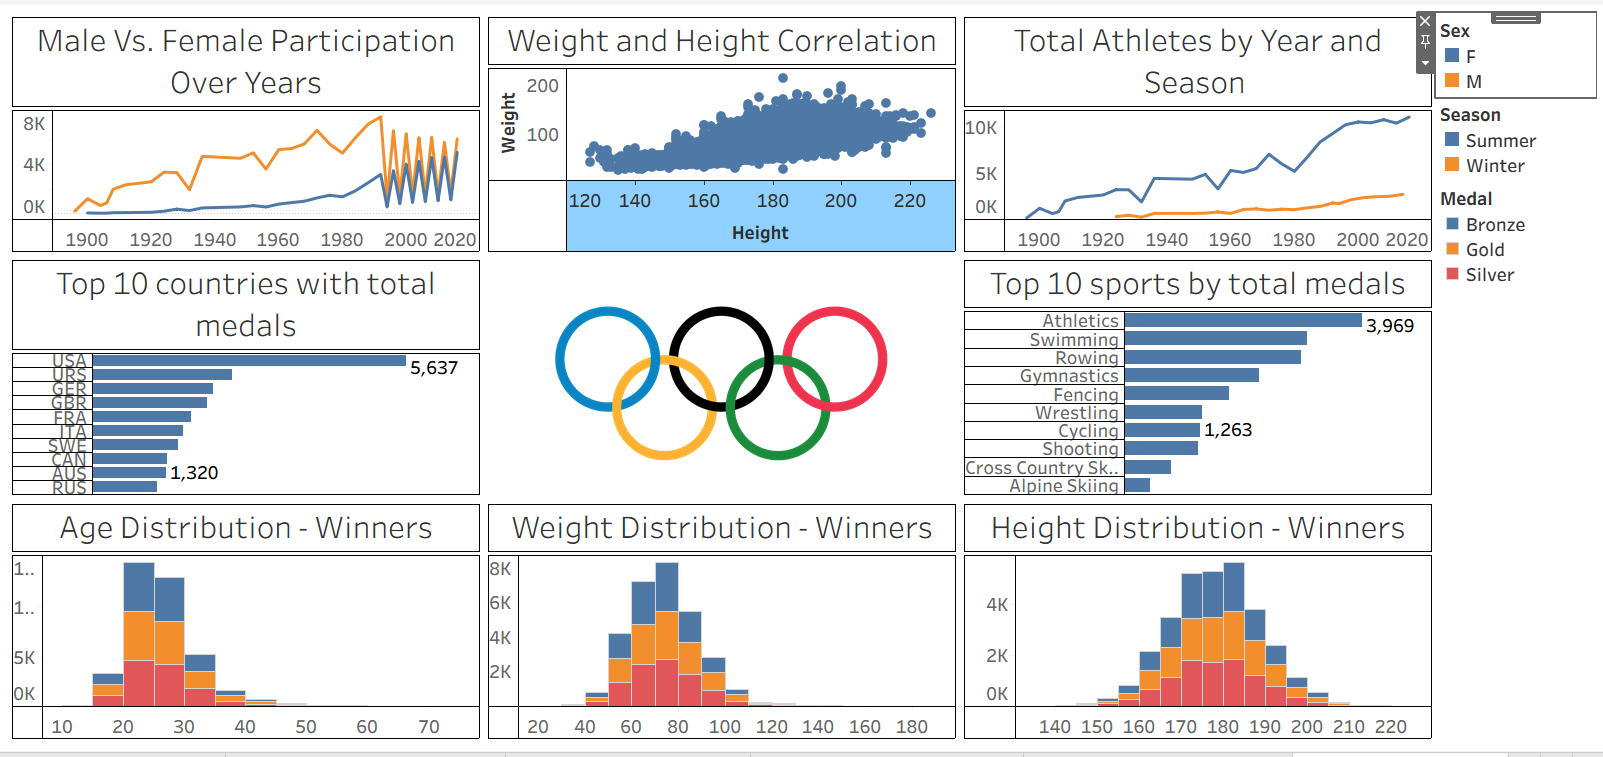

The dashboard page shown, as its layout file describes it:
{"tool":"tableau","page":{"name":"Dashboard 1","canvas":[1000,1000],"units":"permille","ordinal":0},"visuals":[{"type":"worksheet","title":"Male Vs. Female Participation Over Years","mark":"Automatic","rows":["ID"],"cols":["Year"],"box":[5,10.7,296.8,326.2]},{"type":"worksheet","title":"Weight and Height Correlation","mark":"Automatic","rows":["Weight"],"cols":["Height"],"box":[301.7,10.7,296.8,326.2]},{"type":"worksheet","title":"Total Athletes by Year and Season ","mark":"Automatic","rows":["ID"],"cols":["Year"],"box":[598.5,10.7,296.8,326.2]},{"type":"legend","title":"Male Vs. Female Participation Over Years","param":"[federated.0dr0gs71fu81rc1g9exuy1wo04yz].[none:Sex:nk]","box":[895.3,10.7,99.8,112.6]},{"type":"legend","title":"Total Athletes by Year and Season ","param":"[federated.0dr0gs71fu81rc1g9exuy1wo04yz].[none:Season:nk]","box":[895.3,123.3,99.8,112.6]},{"type":"legend","title":"Age Distribution - Winners","param":"[federated.0dr0gs71fu81rc1g9exuy1wo04yz].[none:Medal:nk]","box":[895.3,235.9,99.8,146.1]},{"type":"worksheet","title":"Top 10 countries with total medals","mark":"Automatic","rows":["NOC"],"cols":["Medal"],"box":[5,336.9,296.8,326.2]},{"type":"image","param":"C:/Users/KIIT/Downloads/Olympics-logo.png","box":[301.7,336.9,296.8,326.2]},{"type":"worksheet","title":"Top 10 sports by total medals","mark":"Automatic","rows":["Sport"],"cols":["Medal"],"box":[598.5,336.9,296.8,326.2]},{"type":"worksheet","title":"Age Distribution - Winners","mark":"Automatic","rows":["Age"],"cols":["Age (bin)"],"box":[5,663.1,296.8,326.2]},{"type":"worksheet","title":"Weight Distribution - Winners","mark":"Automatic","rows":["Weight"],"cols":["Weight (bin)"],"box":[301.7,663.1,296.8,326.2]},{"type":"worksheet","title":"Height Distribution - Winners","mark":"Automatic","rows":["Height"],"cols":["Height (bin)"],"box":[598.5,663.1,296.8,326.2]}]}

Visuals, with their boxes on the dashboard's canvas, which has no fixed pixel size, in thousandths of its width and height (x1, y1, x2, y2). These are canvas units, not pixel positions in the 1603x757 screenshot, which may show the page scaled, cropped or inside an application window:
"Male Vs. Female Participation Over Years" worksheet: detection(5, 11, 302, 337)
"Weight and Height Correlation" worksheet: detection(302, 11, 598, 337)
"Total Athletes by Year and Season " worksheet: detection(598, 11, 895, 337)
"Male Vs. Female Participation Over Years" legend: detection(895, 11, 995, 123)
"Total Athletes by Year and Season " legend: detection(895, 123, 995, 236)
"Age Distribution - Winners" legend: detection(895, 236, 995, 382)
"Top 10 countries with total medals" worksheet: detection(5, 337, 302, 663)
image: detection(302, 337, 598, 663)
"Top 10 sports by total medals" worksheet: detection(598, 337, 895, 663)
"Age Distribution - Winners" worksheet: detection(5, 663, 302, 989)
"Weight Distribution - Winners" worksheet: detection(302, 663, 598, 989)
"Height Distribution - Winners" worksheet: detection(598, 663, 895, 989)
